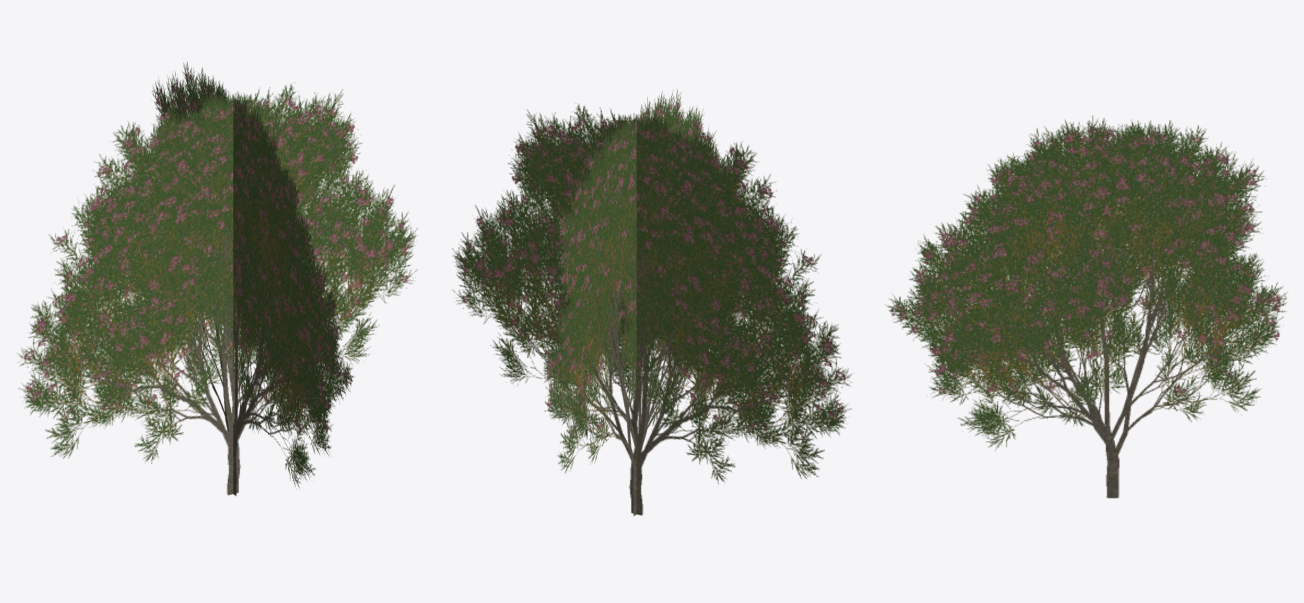
File: ChilopsisLinearis.glb
3 views of the same model, side by side, from view 1: azimuth 30°, elevation 25°; view 2: azimuth 150°, elevation 25°; view 3: azimuth 270°, elevation 25° (orthographic). The views are drawn at different scales.
Visible parts, largest first — view 1: mesh__mat_billboard_5; view 2: mesh__mat_billboard_5; view 3: mesh__mat_billboard_5.
Part boxes in pixels (x1,y1,x2,y2): mesh__mat_billboard_5: (18, 62, 417, 495); mesh__mat_billboard_5: (452, 89, 851, 515); mesh__mat_billboard_5: (886, 115, 1287, 498).
Bounding box in the file's own units: 6.16 × 6.03 × 5.69.
1 material, 1 textured.
